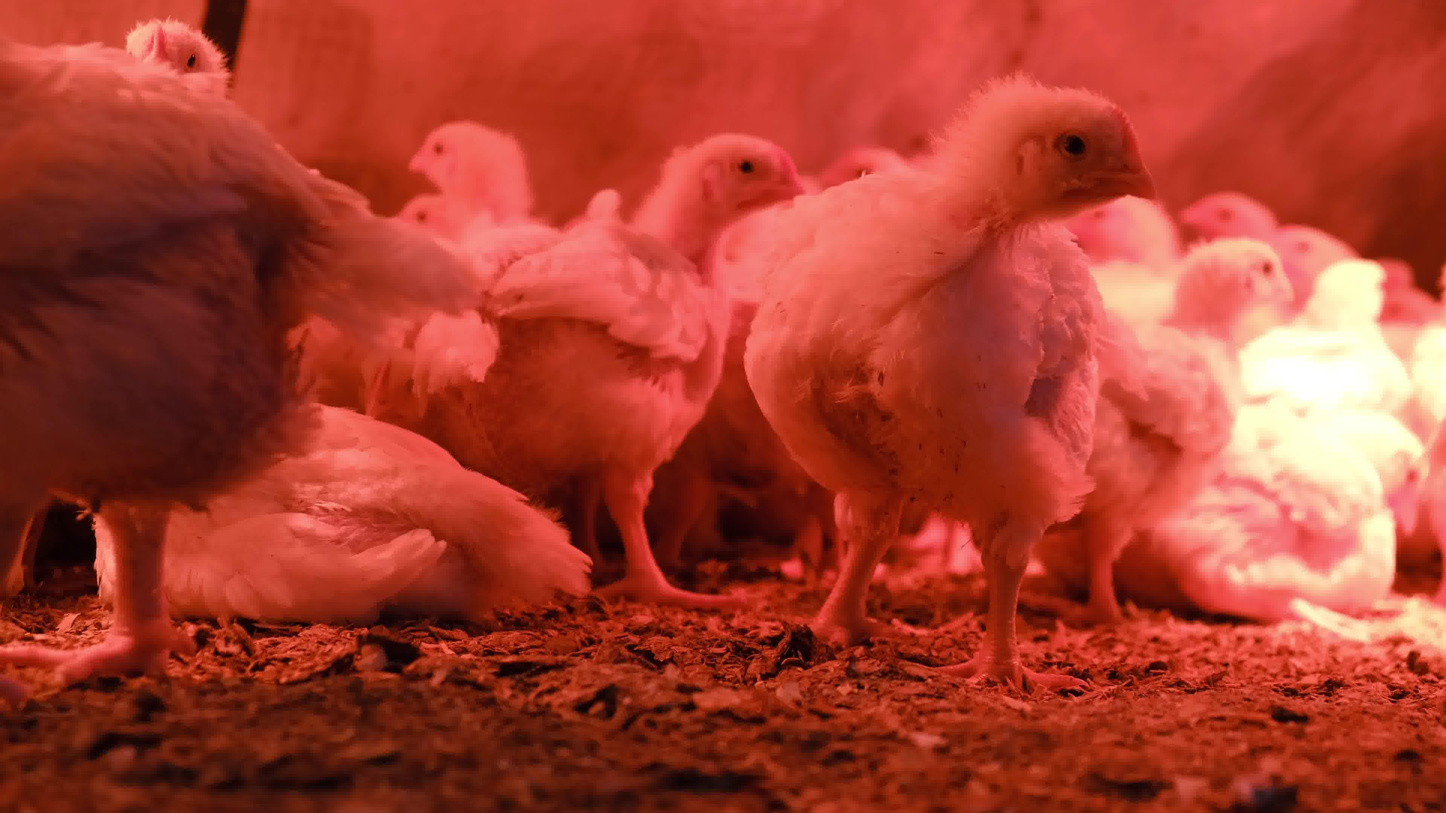AbNormal: (90, 399, 590, 625), (1128, 414, 1429, 623)
Normal: (0, 30, 474, 688), (737, 78, 1164, 709), (418, 134, 812, 605), (1025, 238, 1298, 631), (1237, 251, 1412, 426), (402, 121, 545, 243), (125, 17, 231, 113), (390, 187, 480, 261)
